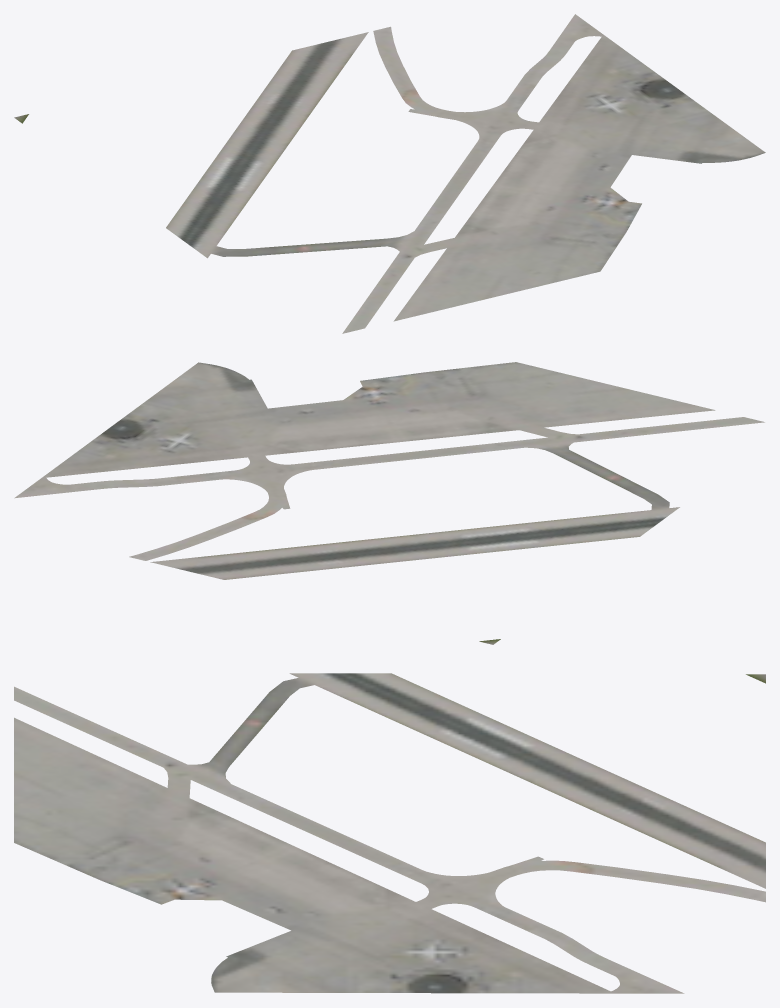
File: LSGG_-2_-2.glb
3 renders of one model, top to bottom at view 1: azimuth 30°, elevation 25°; view 2: azimuth 150°, elevation 25°; view 3: azimuth 270°, elevation 25°, orthographic. The views are drawn at different scales.
Parts seen in each view (by area): view 1: pavement_LSGG_pavement_4993_2241; view 2: pavement_LSGG_pavement_4993_2241; view 3: pavement_LSGG_pavement_4993_2241.
Boxes of the visible parts, box(x1,y1,x2,y2) form: pavement_LSGG_pavement_4993_2241: box(14, 14, 765, 333); pavement_LSGG_pavement_4993_2241: box(14, 362, 764, 644); pavement_LSGG_pavement_4993_2241: box(14, 673, 765, 993).
Bounding box in the file's own units: 500 × 2.35 × 500.
1 material, 1 textured.
